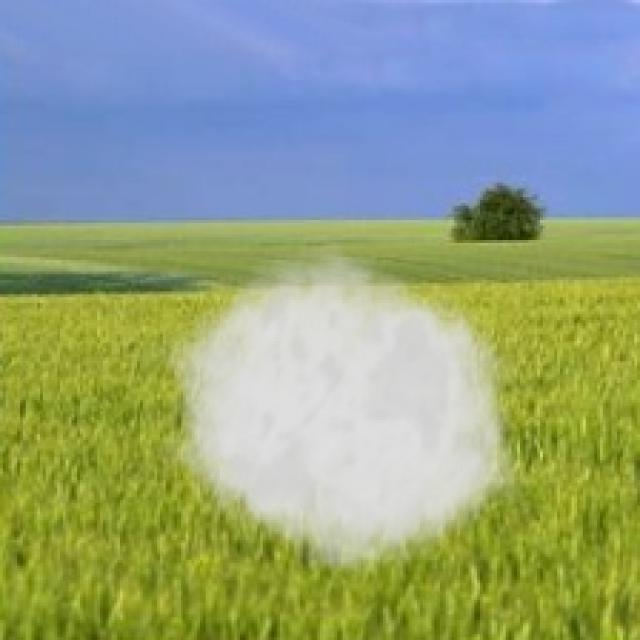Smoke: (159, 237, 532, 583)
